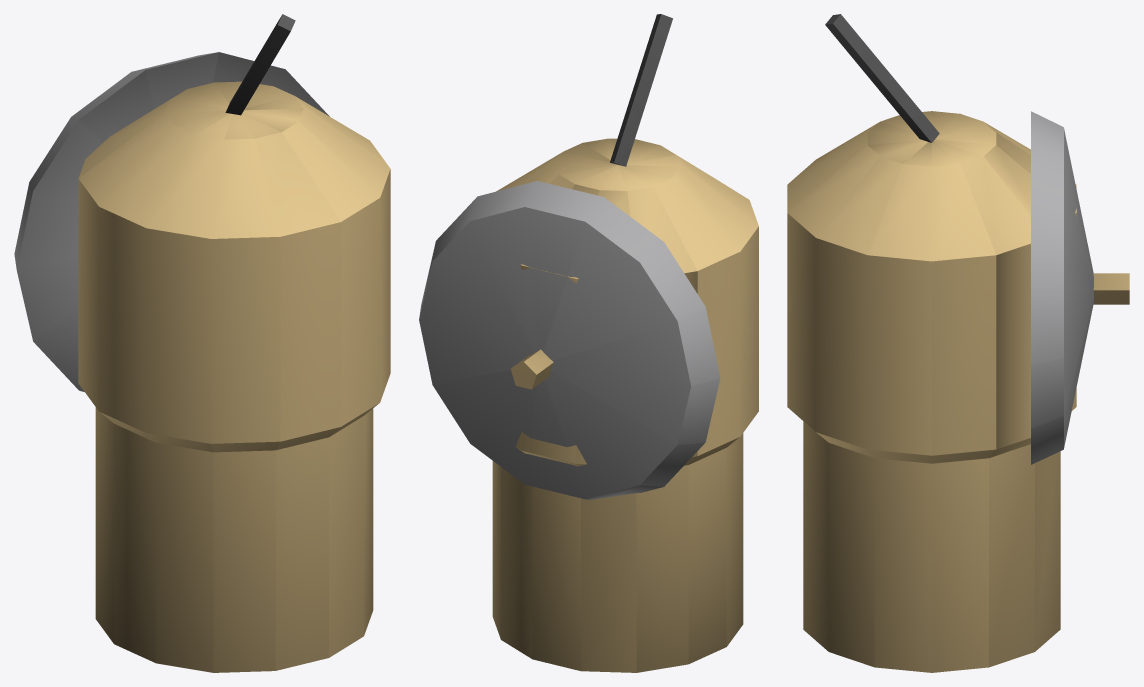
The model's file is carbide_lamp.glb.
The picture shows the model from 3 angles, left to right: view 1: azimuth 30°, elevation 25°; view 2: azimuth 150°, elevation 25°; view 3: azimuth 270°, elevation 25°; orthographic projection. The views are drawn at different scales.
Parts seen in each view (by area): view 1: static; view 2: static; view 3: static.
Part boxes in pixels (left/top/right/bottom): static: left=14, top=14, right=390, bottom=672; static: left=419, top=14, right=758, bottom=672; static: left=787, top=14, right=1129, bottom=672.
Size of the model in its own units: 0.11 by 0.2018 by 0.1039.
